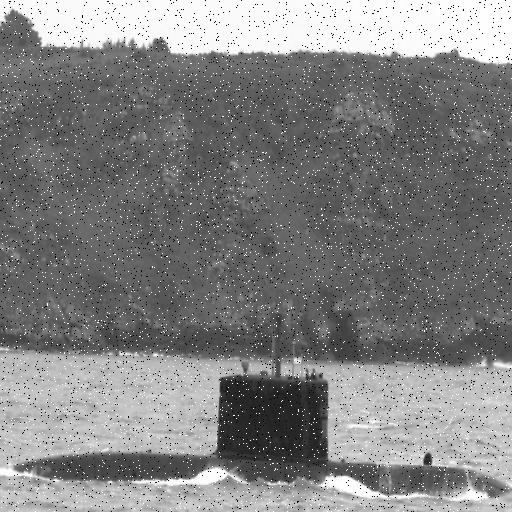submarine: (1, 368, 512, 497)
